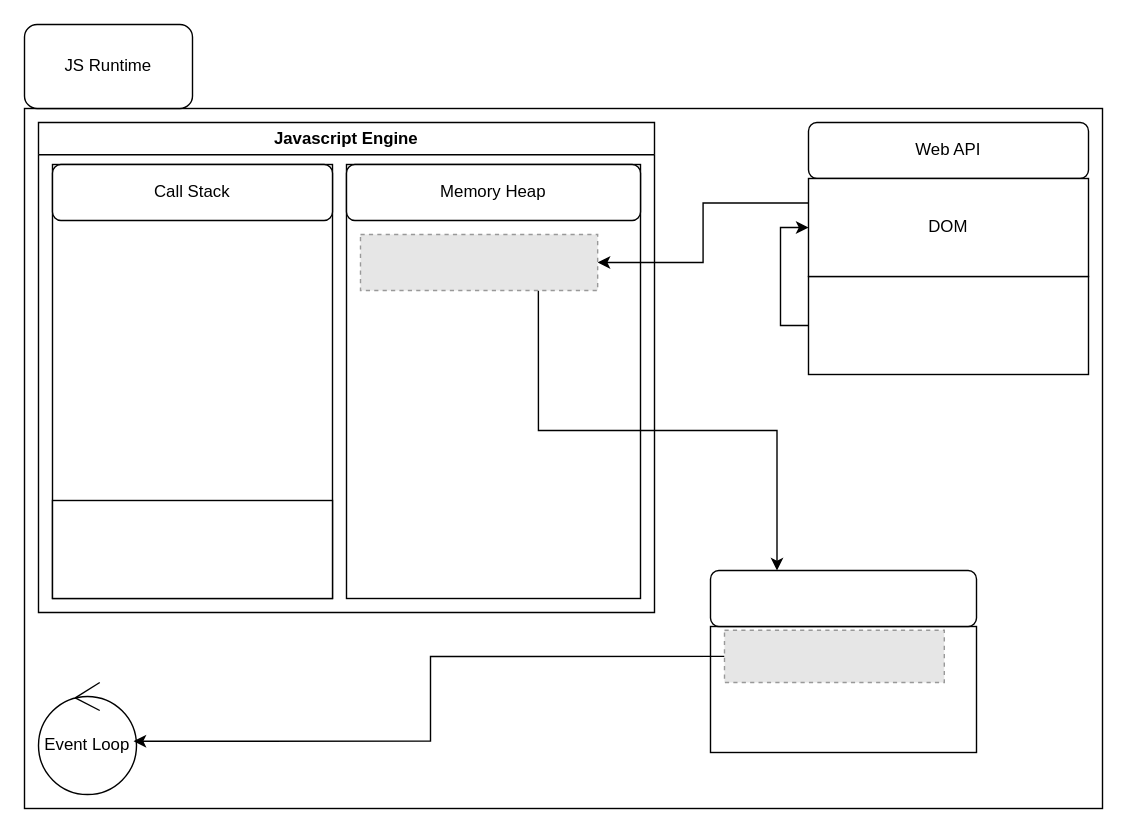
Some shapes in this 1127 by 833 pixel diagram are drawn without their labels. Grey dashed boxes stand in for pictures. Each missing label, with the box of its shape:
anonymous 실행 컨텍스트 Execution Context: (51, 499, 332, 598)
Callback Queue: (709, 569, 976, 626)
Event 클릭 이벤트 발생: (807, 275, 1088, 374)
